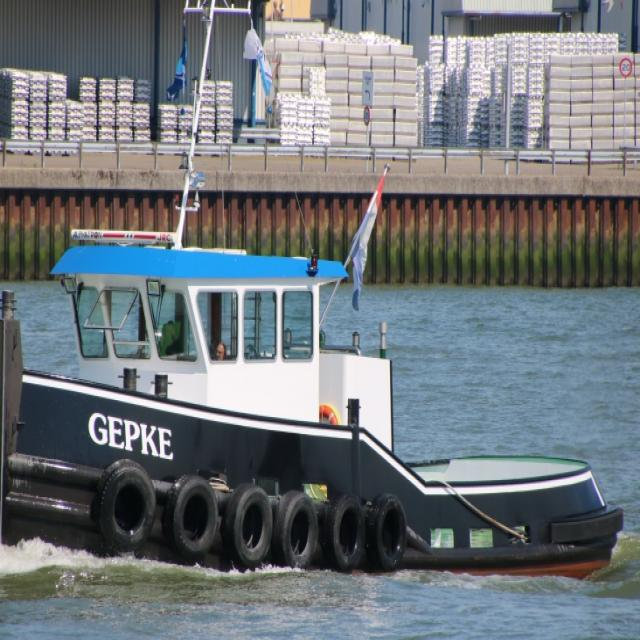tugboat: (1, 215, 631, 598)
